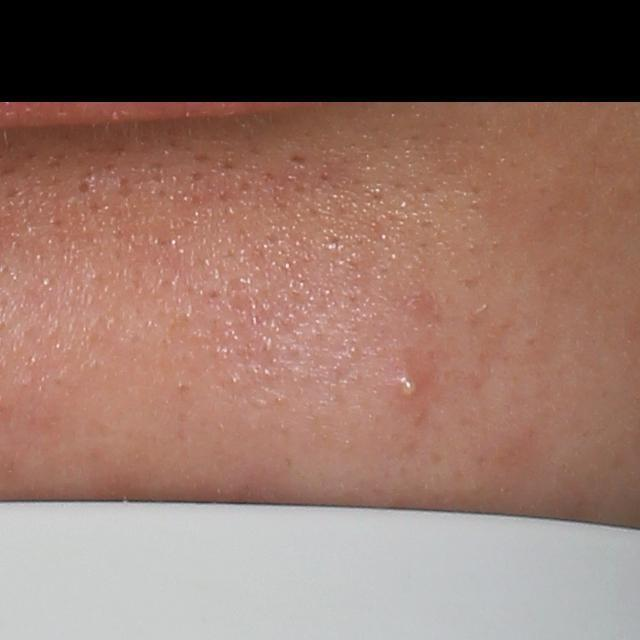atrophic_scar: (287, 153, 305, 164)
comedo: (74, 179, 91, 197)
pustule: (393, 370, 424, 403)
